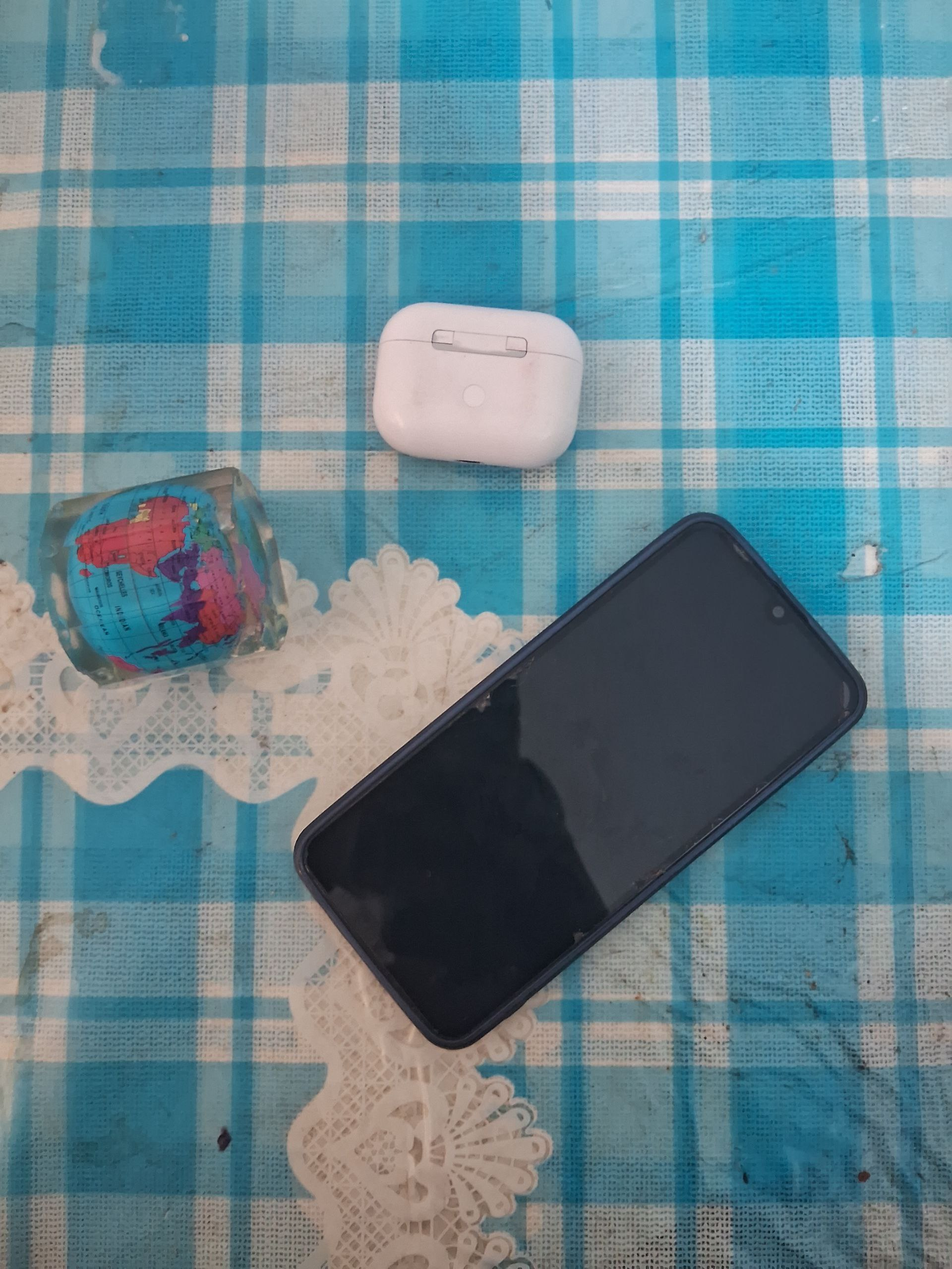Air_pod: (371, 292, 592, 476)
Smart_phone: (286, 507, 873, 1057)
world_globe: (37, 462, 293, 690)
